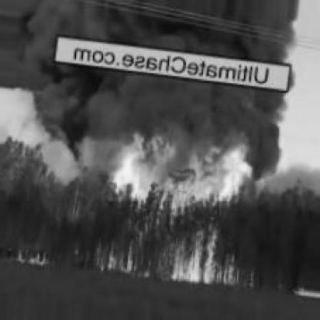Fire: (76, 123, 264, 289), (4, 245, 56, 273), (283, 278, 320, 304)
Smoke: (11, 3, 295, 131)
